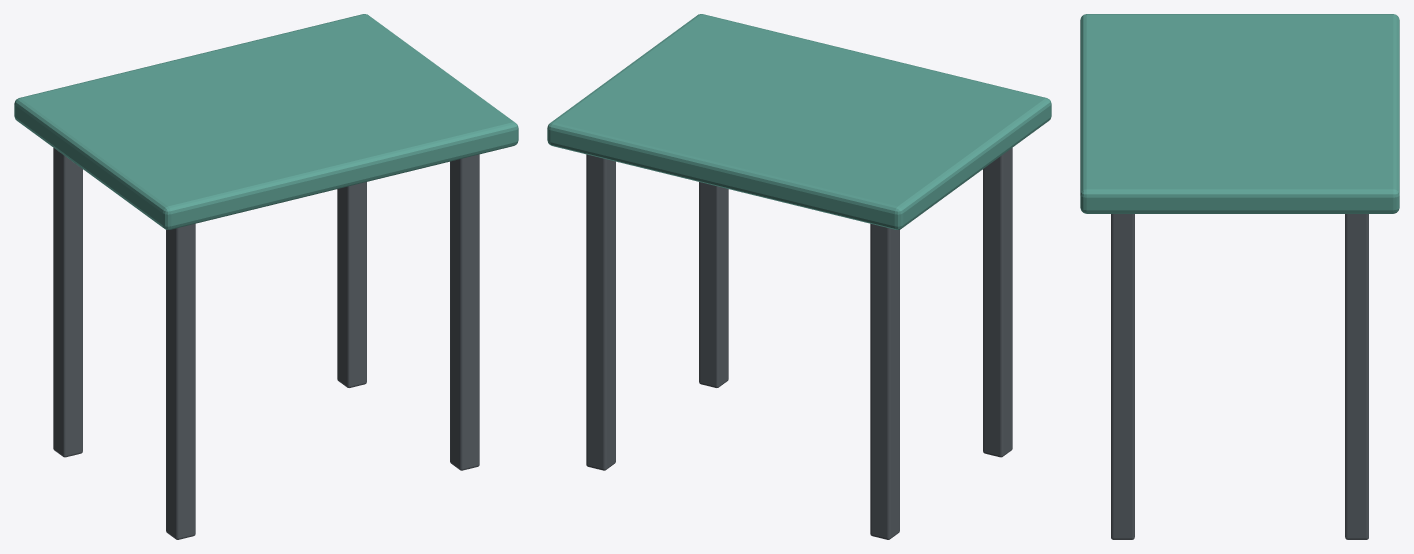
3 views of the same model, side by side, from view 1: azimuth 30°, elevation 25°; view 2: azimuth 150°, elevation 25°; view 3: azimuth 270°, elevation 25° (orthographic). The views are drawn at different scales.
Parts seen in each view (by area): view 1: Side_Table_Top, Side_Table_Leg, Side_Table_Leg.002, Side_Table_Leg.001, Side_Table_Leg.003; view 2: Side_Table_Top, Side_Table_Leg.001, Side_Table_Leg.003, Side_Table_Leg, Side_Table_Leg.002; view 3: Side_Table_Top, Side_Table_Leg.002, Side_Table_Leg.003.
Part boxes in pixels (x1,y1,x2,y2): Side_Table_Top: (14,14,518,229); Side_Table_Leg: (166,223,195,539); Side_Table_Leg.002: (450,154,479,470); Side_Table_Leg.001: (53,148,82,457); Side_Table_Leg.003: (337,182,366,387); Side_Table_Top: (547,14,1051,229); Side_Table_Leg.001: (870,223,899,539); Side_Table_Leg.003: (586,154,615,470); Side_Table_Leg: (983,148,1012,457); Side_Table_Leg.002: (699,182,728,387); Side_Table_Top: (1080,14,1399,213); Side_Table_Leg.002: (1111,214,1134,539); Side_Table_Leg.003: (1345,214,1368,539).
Bounding box in the file's own units: 0.8 × 0.75 × 0.6.
